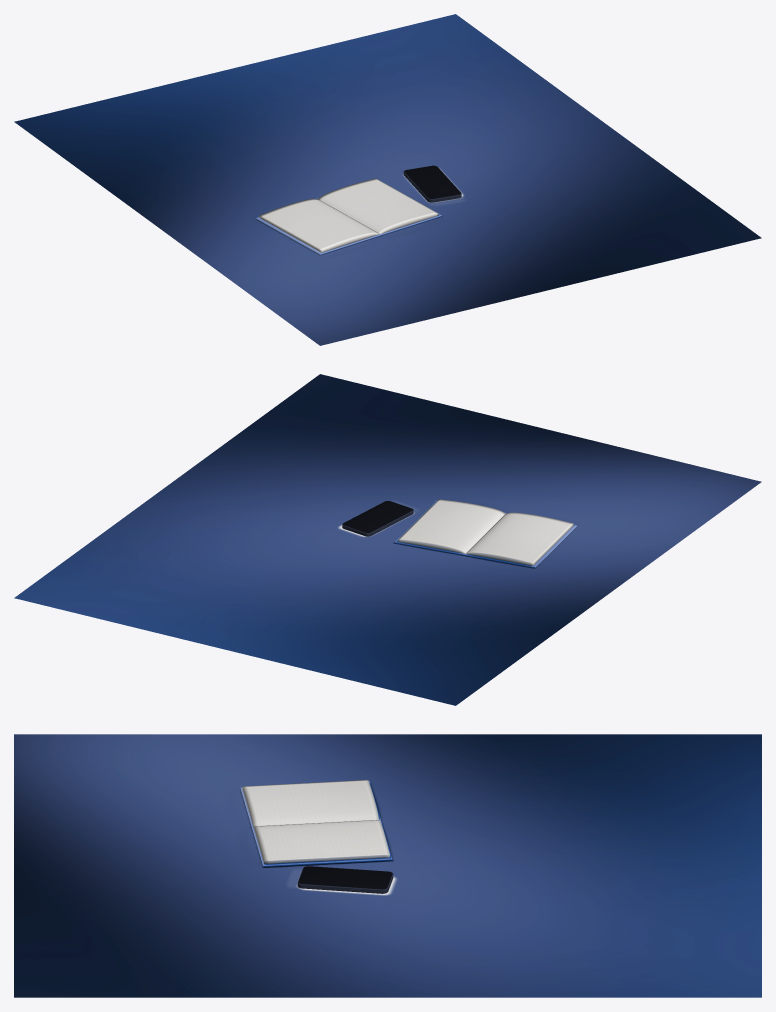
The model's file is study.glb.
The picture shows the model from 3 angles, top to bottom: view 1: azimuth 30°, elevation 25°; view 2: azimuth 150°, elevation 25°; view 3: azimuth 270°, elevation 25°; orthographic projection. The views are drawn at different scales.
Parts seen in each view (by area): view 1: Baked_Desk, Baked_Notebook, Phone_Screen; view 2: Baked_Desk, Baked_Notebook, Phone_Screen; view 3: Baked_Desk, Baked_Notebook, Phone_Screen, Phone_Body.
Part boxes in pixels (<box>): Baked_Desk: <box>14,14,761,345</box>; Baked_Notebook: <box>255,178,441,255</box>; Phone_Screen: <box>404,165,460,198</box>; Baked_Desk: <box>14,374,761,705</box>; Baked_Notebook: <box>394,499,576,568</box>; Phone_Screen: <box>343,501,412,532</box>; Baked_Desk: <box>14,734,761,997</box>; Baked_Notebook: <box>240,780,392,867</box>; Phone_Screen: <box>298,866,392,889</box>; Phone_Body: <box>297,866,393,893</box>.
Size of the model in its own units: 1 by 0.0112 by 1.2.
5 materials, 3 textured.
